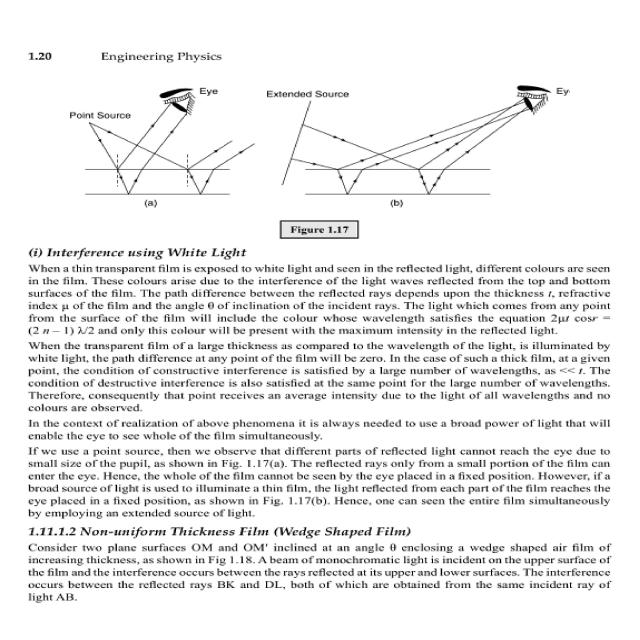diagram: (44, 72, 640, 243)
